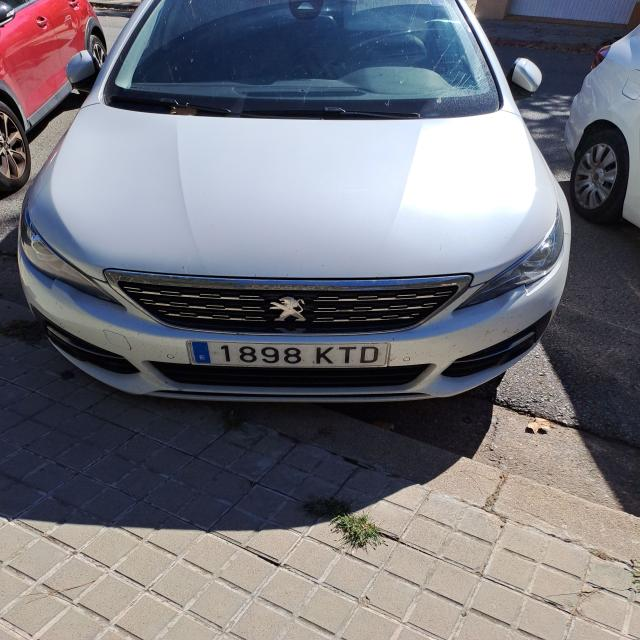license_plate-34Td: (187, 341, 389, 369)
